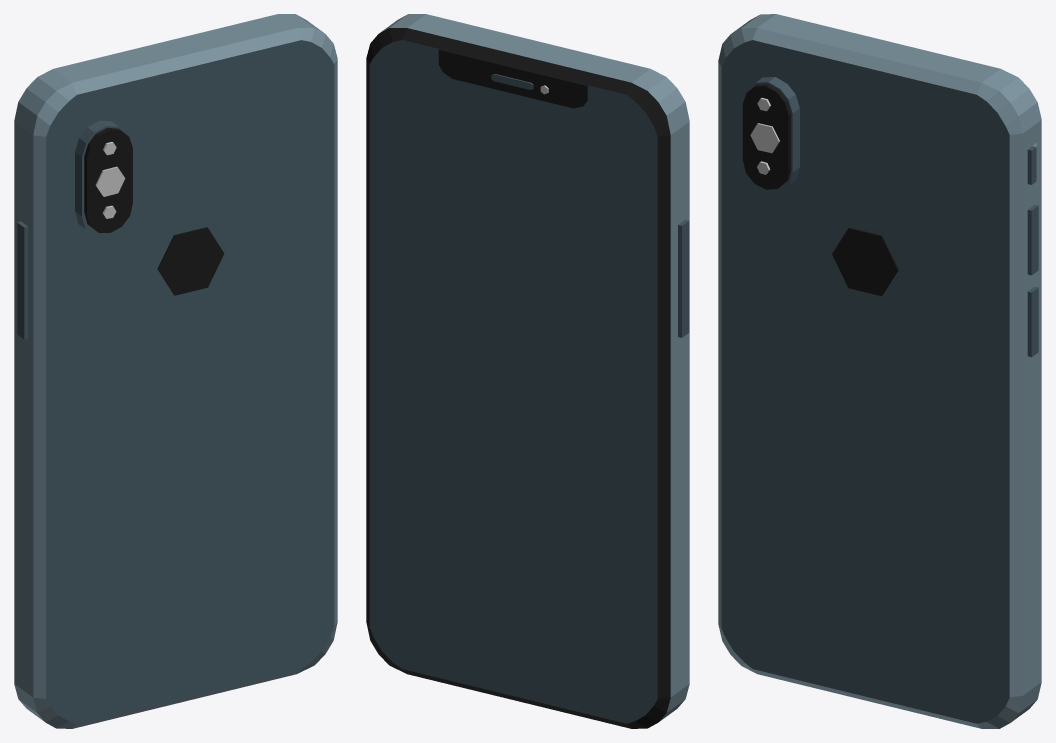
3 renders of one model, left to right at view 1: azimuth 30°, elevation 25°; view 2: azimuth 150°, elevation 25°; view 3: azimuth 330°, elevation 25°, orthographic.
Visible parts, largest first — view 1: mesh_817659832, mesh_40103501, group_1638188736, mesh_465359774, mesh_1637273763, group_1982349354; view 2: mesh_817659832, mesh_660411554, mesh_1637273763; view 3: mesh_817659832, mesh_40103501, group_1638188736, mesh_465359774, mesh_849457402, mesh_1152579848, group_1982349354.
Boxes of the visible parts, box(x1,y1,x2,y2) form: mesh_817659832: box(14, 14, 337, 728); mesh_40103501: box(84, 127, 132, 232); group_1638188736: box(157, 227, 224, 295); mesh_465359774: box(75, 120, 127, 236); mesh_1637273763: box(17, 221, 28, 339); group_1982349354: box(95, 166, 125, 196); mesh_817659832: box(366, 14, 689, 728); mesh_660411554: box(438, 49, 587, 108); mesh_1637273763: box(678, 219, 689, 337); mesh_817659832: box(718, 14, 1041, 728); mesh_40103501: box(742, 84, 791, 189); group_1638188736: box(832, 227, 898, 296); mesh_465359774: box(743, 77, 799, 192); mesh_849457402: box(1027, 204, 1038, 275); mesh_1152579848: box(1027, 286, 1038, 357); group_1982349354: box(750, 123, 779, 153).
Bounding box in the file's own units: 76 × 150 × 17.61.
